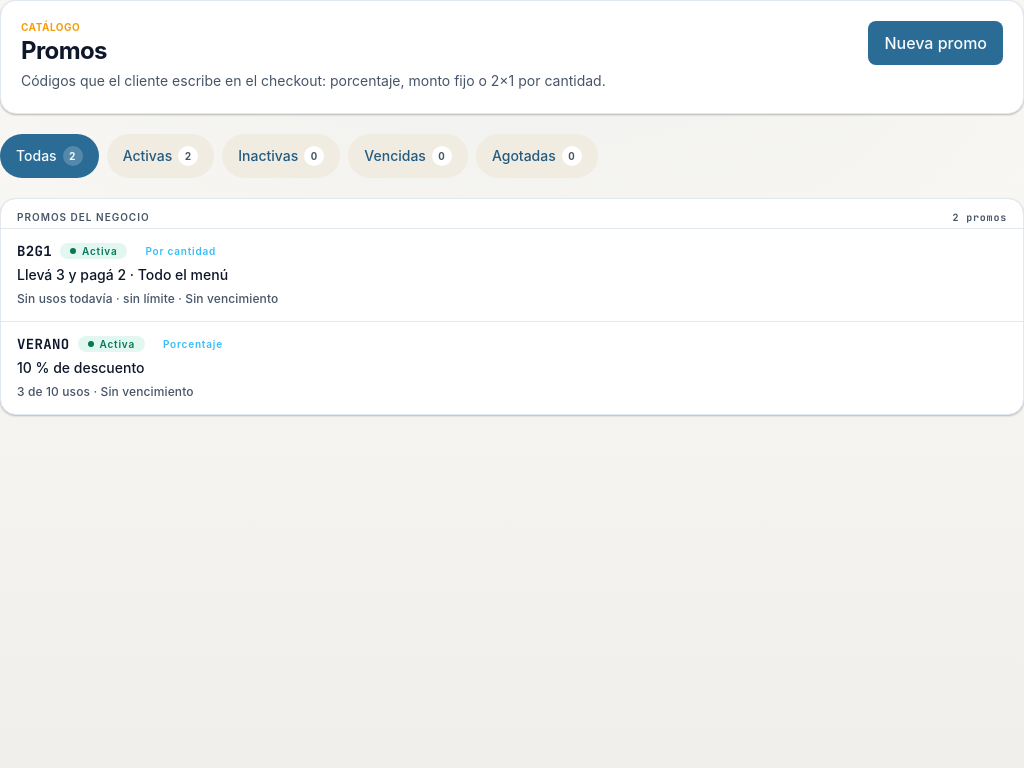
Test: AdminPromotionsPage › solo la promo por cantidad pide alcance
Click the button "Nueva promo": (936, 43) [868,21,1003,65]
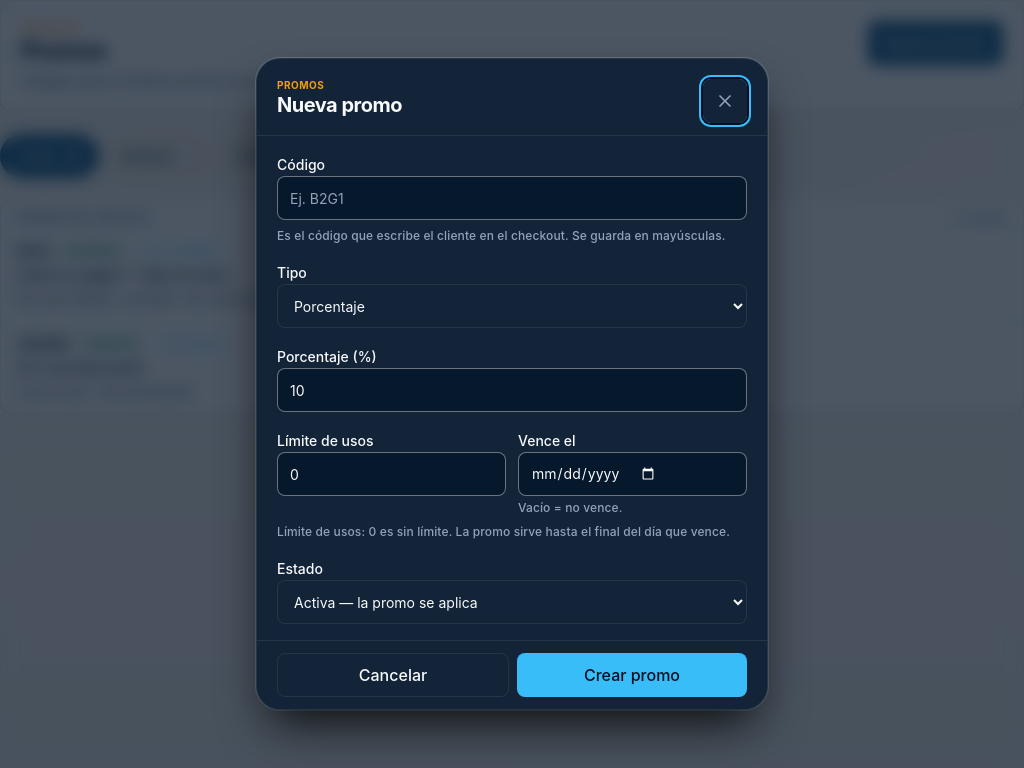
Expected: the field labelled "Alcance" is not shown
Select "Por cantidad" in the dropdown labelled "Tipo": (512, 306) [277,284,747,328]
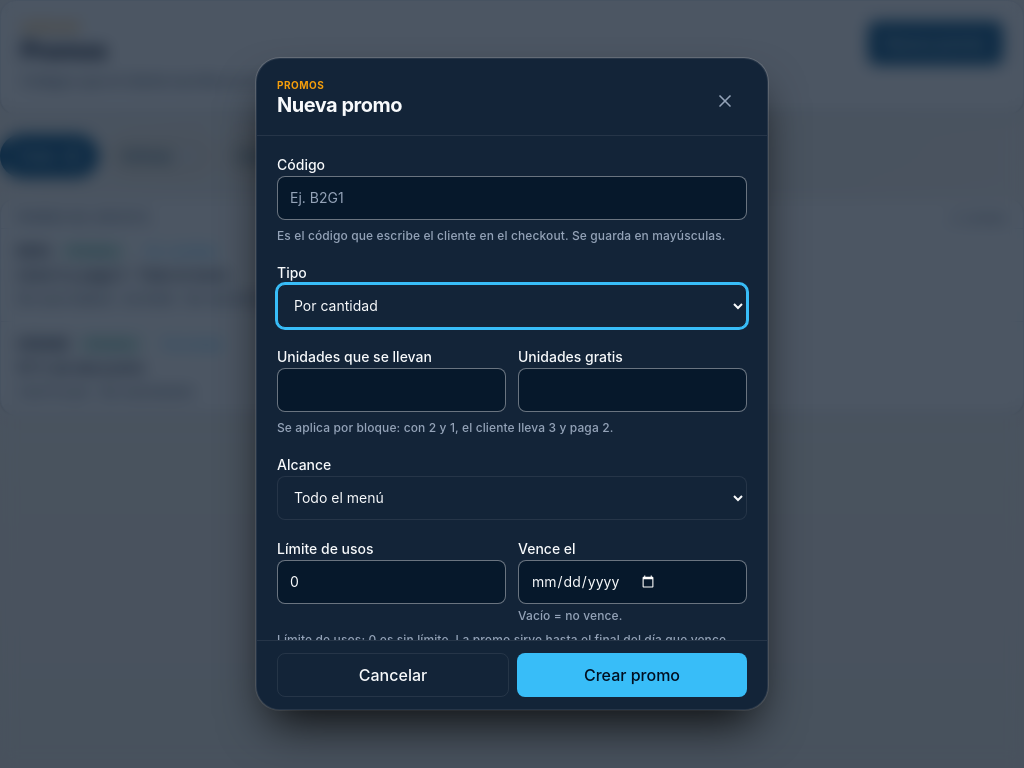
Expected: the dropdown labelled "Alcance" is shown
Select "Categoría" in the dropdown labelled "Alcance": (512, 498) [277,476,747,520]
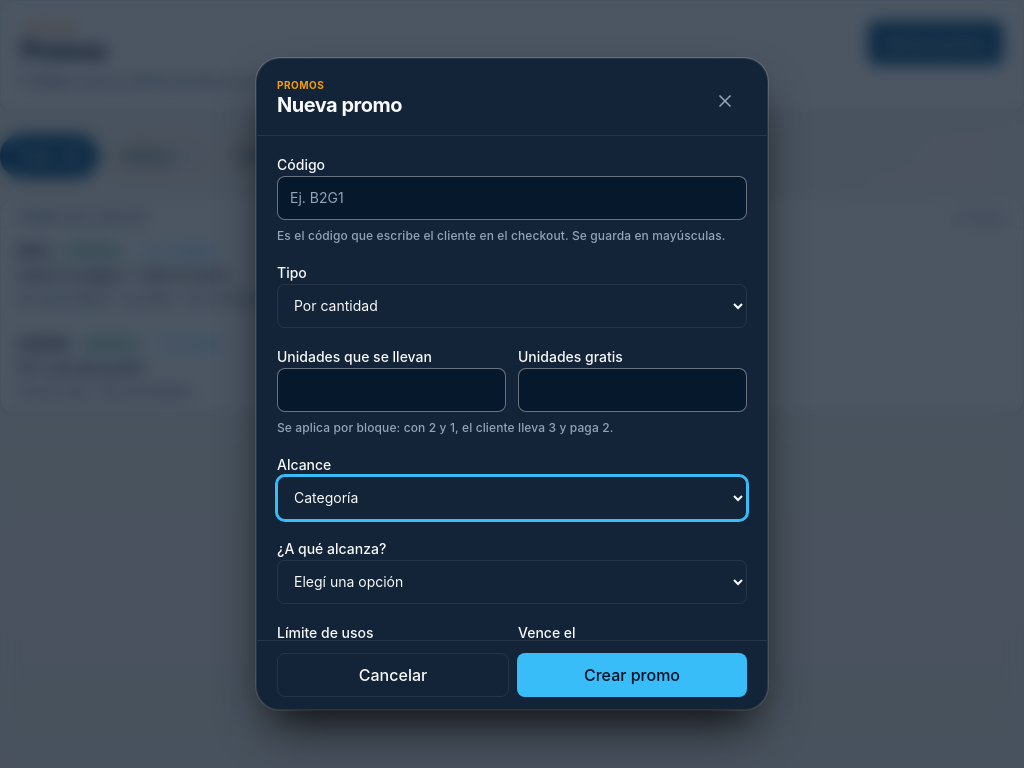
Expected: the dropdown labelled "¿A qué alcanza?" is shown, [277,560,747,604]
